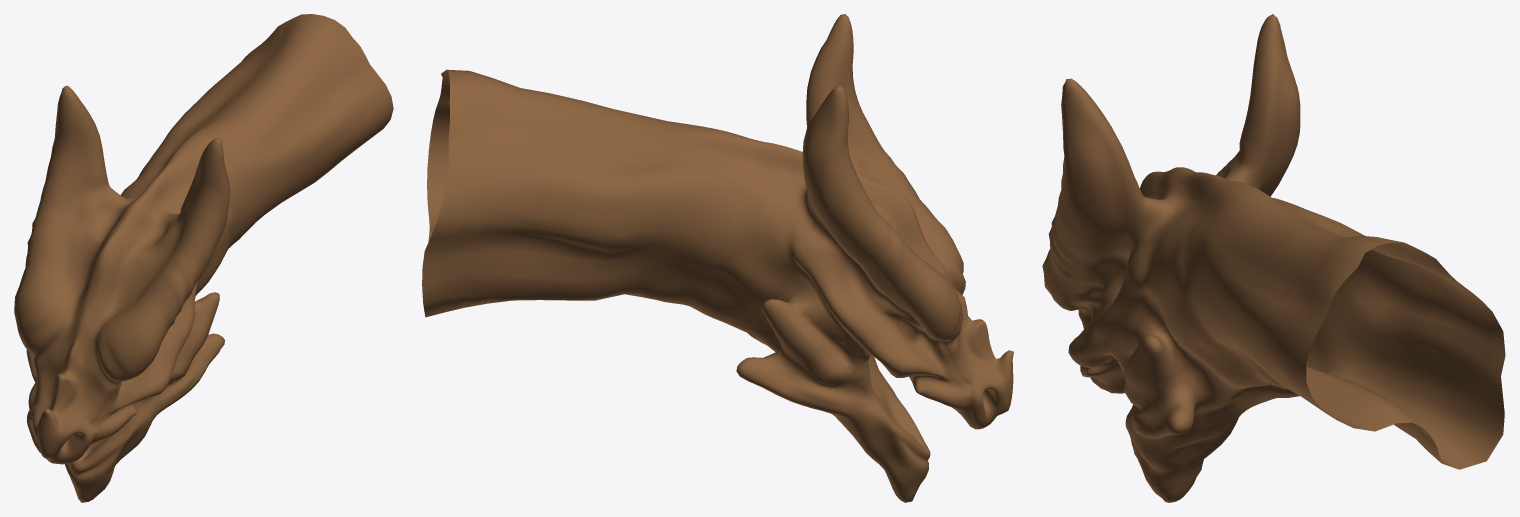
File: Cabeza5.obj
3 views of the same model, side by side, from view 1: azimuth 30°, elevation 25°; view 2: azimuth 150°, elevation 25°; view 3: azimuth 270°, elevation 25° (orthographic). The views are drawn at different scales.
Visible parts, largest first — view 1: Cabeza5; view 2: Cabeza5; view 3: Cabeza5.
Part boxes in pixels (x1,y1,x2,y2): Cabeza5: (14,14,393,502); Cabeza5: (422,14,1013,502); Cabeza5: (1042,14,1505,502).
Bounding box in the file's own units: 2.55 × 2.17 × 1.82.
Materials: 1 (1 with a texture image).
